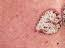plaque psoriasis: (35, 8, 60, 35), (62, 5, 65, 31), (64, 0, 65, 5)
